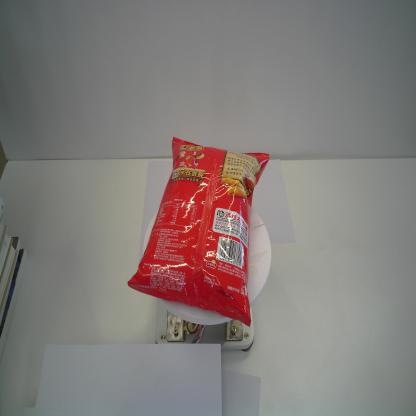Puffed Food: (127, 134, 270, 330)
